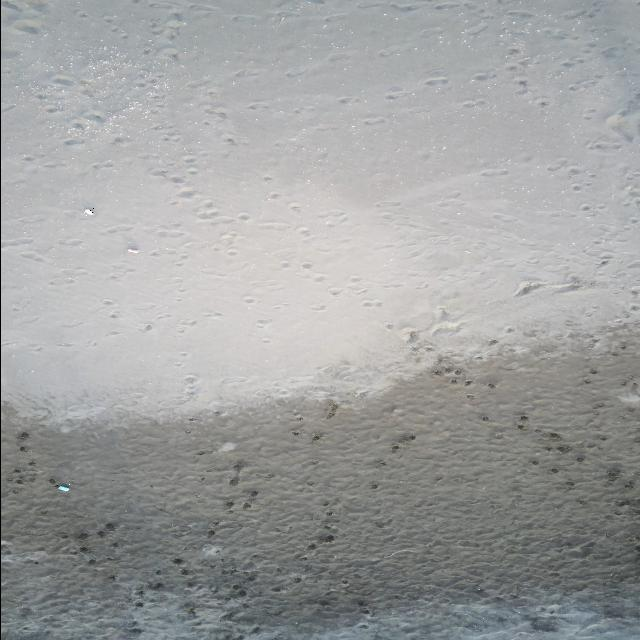Garbage: (84, 207, 94, 216), (57, 484, 68, 491)
